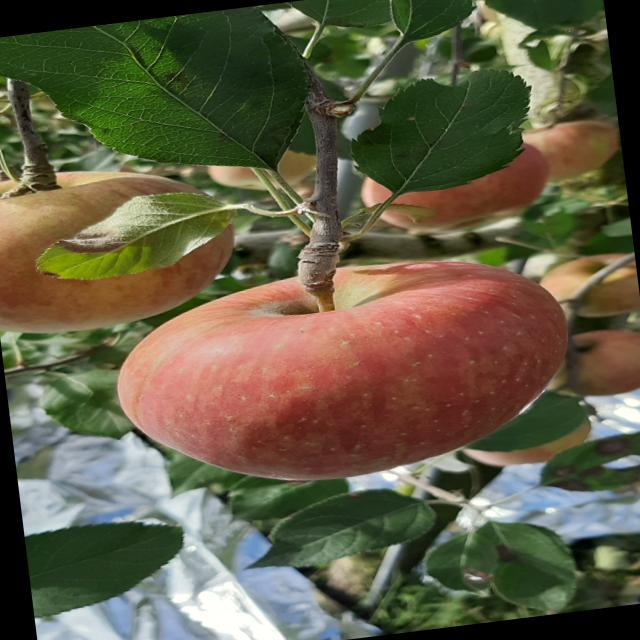fresh: (91, 235, 600, 512)
